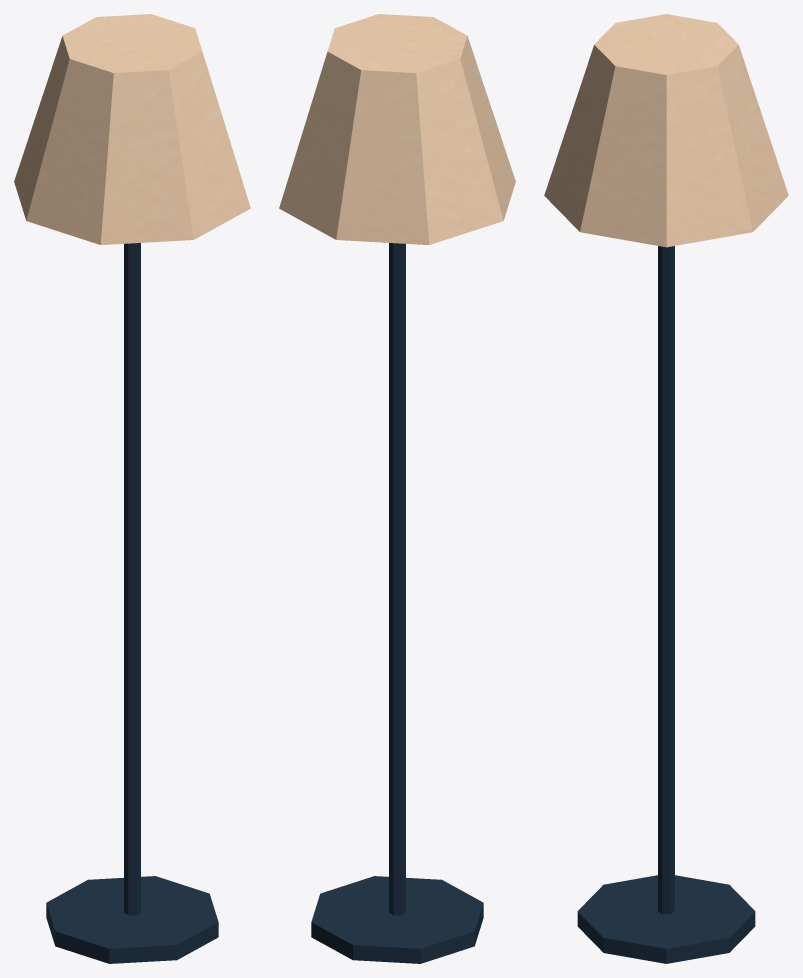
Rendered from Lamp_Floor.fbx.
The picture shows the model from 3 angles, left to right: view 1: azimuth 30°, elevation 25°; view 2: azimuth 150°, elevation 25°; view 3: azimuth 270°, elevation 25°; orthographic projection.
Visible parts, largest first — view 1: Lamp_Floor; view 2: Lamp_Floor; view 3: Lamp_Floor.
Boxes of the visible parts, x1,y1,x2,y2 form: Lamp_Floor: (14, 14, 250, 963); Lamp_Floor: (279, 14, 515, 963); Lamp_Floor: (544, 14, 788, 963).
Bounding box in the file's own units: 0.44 × 1.75 × 0.44.
Materials: 1 (1 with a texture image).
